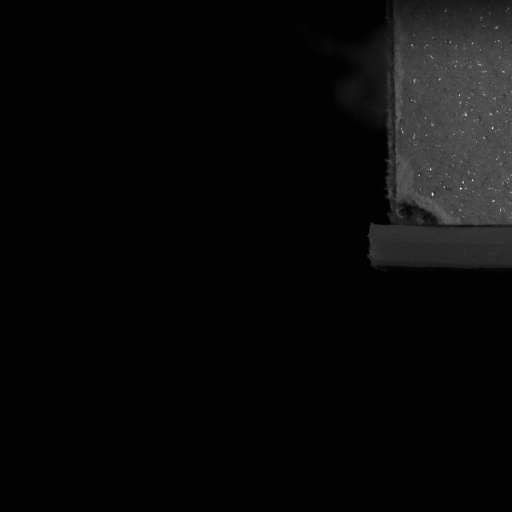bengque: (391, 194, 461, 230)
